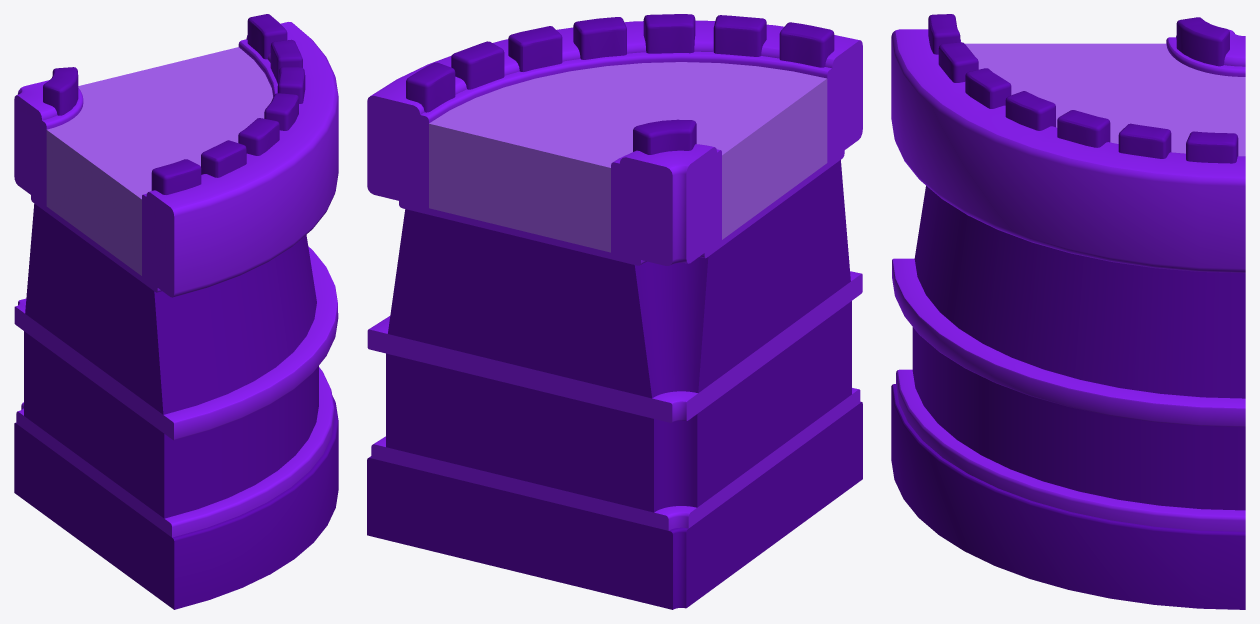
File: mega wall corner (regular height).fbx
3 renders of one model, left to right at view 1: azimuth 30°, elevation 25°; view 2: azimuth 150°, elevation 25°; view 3: azimuth 270°, elevation 25°, orthographic. The views are drawn at different scales.
Parts seen in each view (by area): view 1: Plane.062; view 2: Plane.062; view 3: Plane.062.
Part boxes in pixels (box(x1,y1,x2,y2)): Plane.062: box(14, 14, 338, 609); Plane.062: box(367, 14, 862, 609); Plane.062: box(891, 14, 1245, 609).
Bounding box in the file's own units: 97.34 × 137 × 97.34.
Materials: 1 (1 with a texture image).
